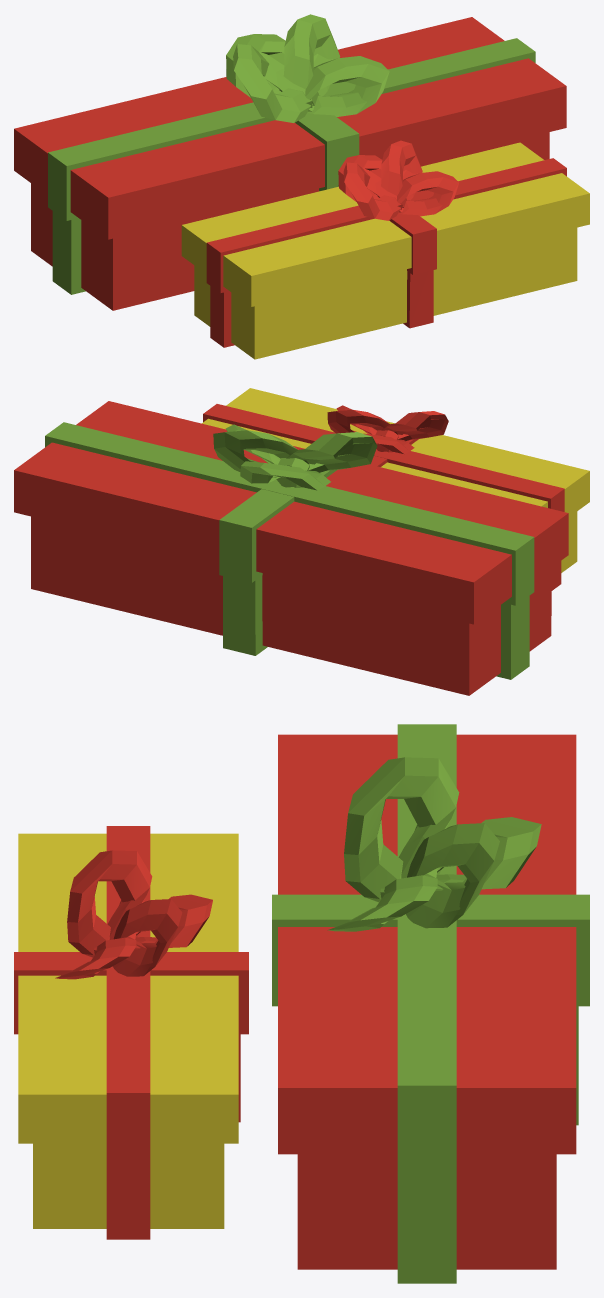
File: gift2.gltf
3 renders of one model, top to bottom at view 1: azimuth 30°, elevation 25°; view 2: azimuth 150°, elevation 25°; view 3: azimuth 270°, elevation 25°, orthographic. The views are drawn at different scales.
Visible parts, largest first — view 1: node_MeshObject-1353921344-PolyPaper8; view 2: node_MeshObject-1353921344-PolyPaper8; view 3: node_MeshObject-1353921344-PolyPaper8.
Part boxes in pixels (left/top/right/bottom): node_MeshObject-1353921344-PolyPaper8: left=14, top=14, right=589, bottom=359; node_MeshObject-1353921344-PolyPaper8: left=14, top=388, right=589, bottom=695; node_MeshObject-1353921344-PolyPaper8: left=14, top=724, right=589, bottom=1283.
Size of the model in its own units: 2.18 by 0.8823 by 1.47.
